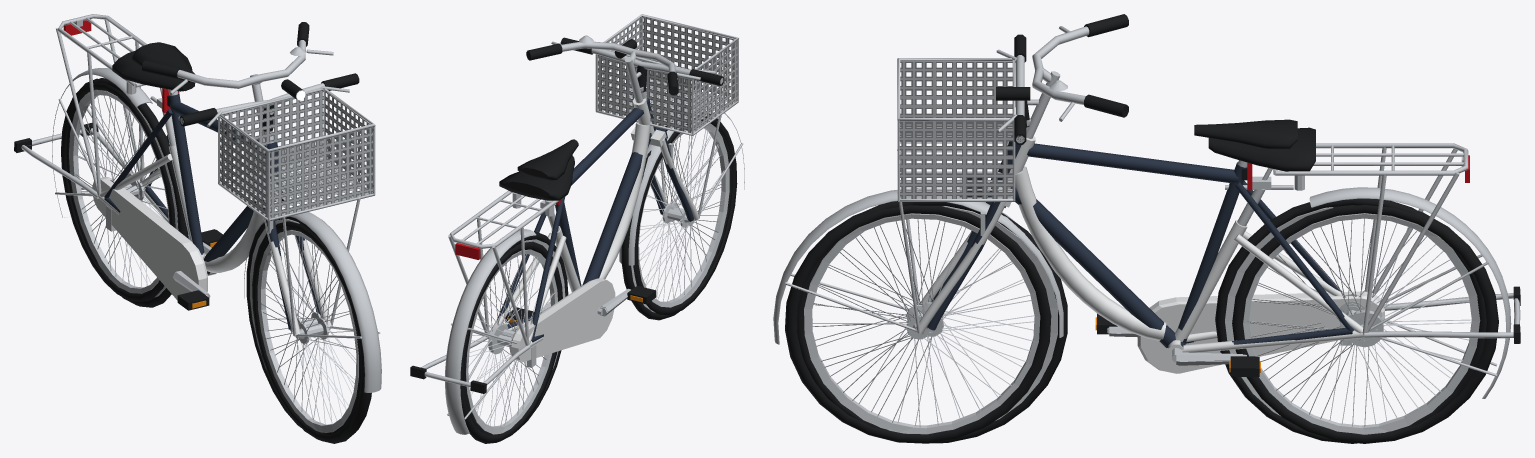
The model's file is bicycle.glb.
The picture shows the model from 3 angles, left to right: view 1: azimuth 30°, elevation 25°; view 2: azimuth 150°, elevation 25°; view 3: azimuth 270°, elevation 25°; orthographic projection. The views are drawn at different scales.
Parts seen in each view (by area): view 1: CitySteer, CityBike, CityFrontWheel, SportBike, SportRearWheel, CityRearWheel, SportFrontWheel, SportSteer, CityStand, CityPedalR; view 2: CityBike, CitySteer, SportBike, CityRearWheel, SportFrontWheel, CityFrontWheel, SportRearWheel, SportSteer, CityStand, CityPedalR; view 3: CityBike, CitySteer, CityFrontWheel, CityRearWheel, SportBike, SportRearWheel, SportFrontWheel, SportSteer, CityStand, CityCrank.
Part boxes in pixels (bbox=[...]): CitySteer: bbox=[142, 22, 381, 392]; CityBike: bbox=[52, 14, 270, 300]; CityFrontWheel: bbox=[252, 221, 371, 443]; SportBike: bbox=[104, 42, 282, 274]; SportRearWheel: bbox=[65, 78, 188, 307]; CityRearWheel: bbox=[61, 78, 175, 302]; SportFrontWheel: bbox=[246, 216, 360, 434]; SportSteer: bbox=[179, 73, 359, 329]; CityStand: bbox=[14, 122, 131, 198]; CityPedalR: bbox=[177, 290, 209, 309]; CityBike: bbox=[445, 98, 654, 434]; CitySteer: bbox=[526, 14, 744, 265]; SportBike: bbox=[498, 98, 655, 367]; CityRearWheel: bbox=[460, 241, 562, 443]; SportFrontWheel: bbox=[621, 112, 732, 320]; CityFrontWheel: bbox=[633, 114, 737, 314]; SportRearWheel: bbox=[464, 231, 568, 435]; SportSteer: bbox=[560, 37, 724, 221]; CityStand: bbox=[410, 336, 530, 393]; CityPedalR: bbox=[627, 285, 656, 303]; CityBike: bbox=[1007, 127, 1511, 398]; CitySteer: bbox=[773, 14, 1128, 344]; CityFrontWheel: bbox=[785, 205, 1051, 443]; CityRearWheel: bbox=[1232, 205, 1498, 443]; SportBike: bbox=[997, 119, 1353, 347]; SportRearWheel: bbox=[1215, 198, 1486, 443]; SportFrontWheel: bbox=[797, 201, 1067, 443]; SportSteer: bbox=[927, 34, 1031, 330]; CityStand: bbox=[1364, 286, 1520, 343]; CityCrank: bbox=[1109, 326, 1242, 364].
Size of the model in its own units: 0.58 by 1.06 by 1.85.
Materials: 8 (1 with a texture image).
